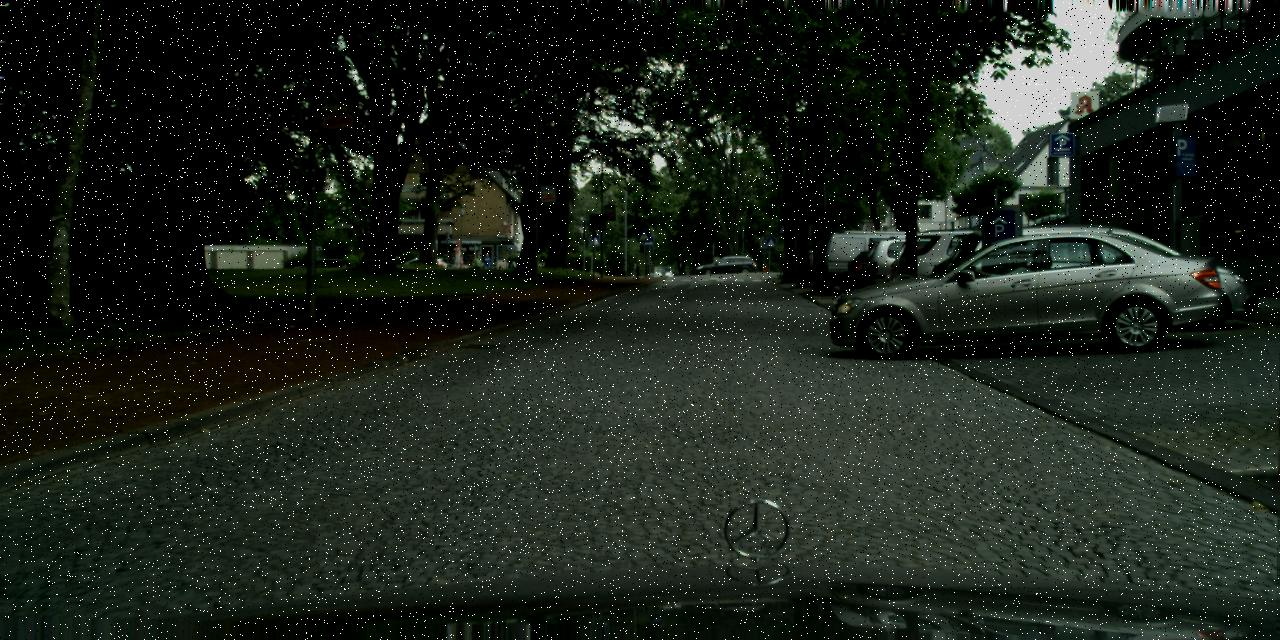ped: (472, 254, 482, 278), (482, 252, 491, 276)
